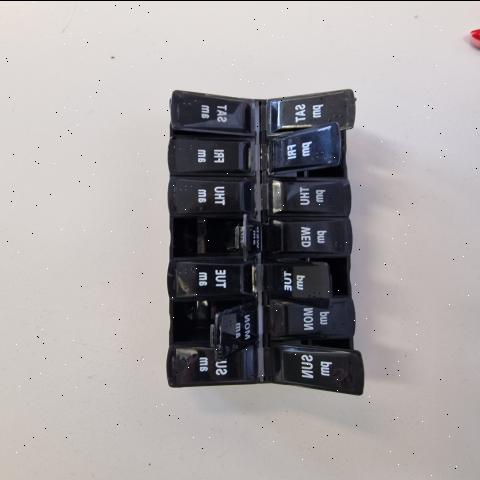Open: (170, 297, 256, 359), (273, 255, 350, 309), (270, 124, 346, 177), (173, 215, 259, 256), (273, 337, 361, 351)
